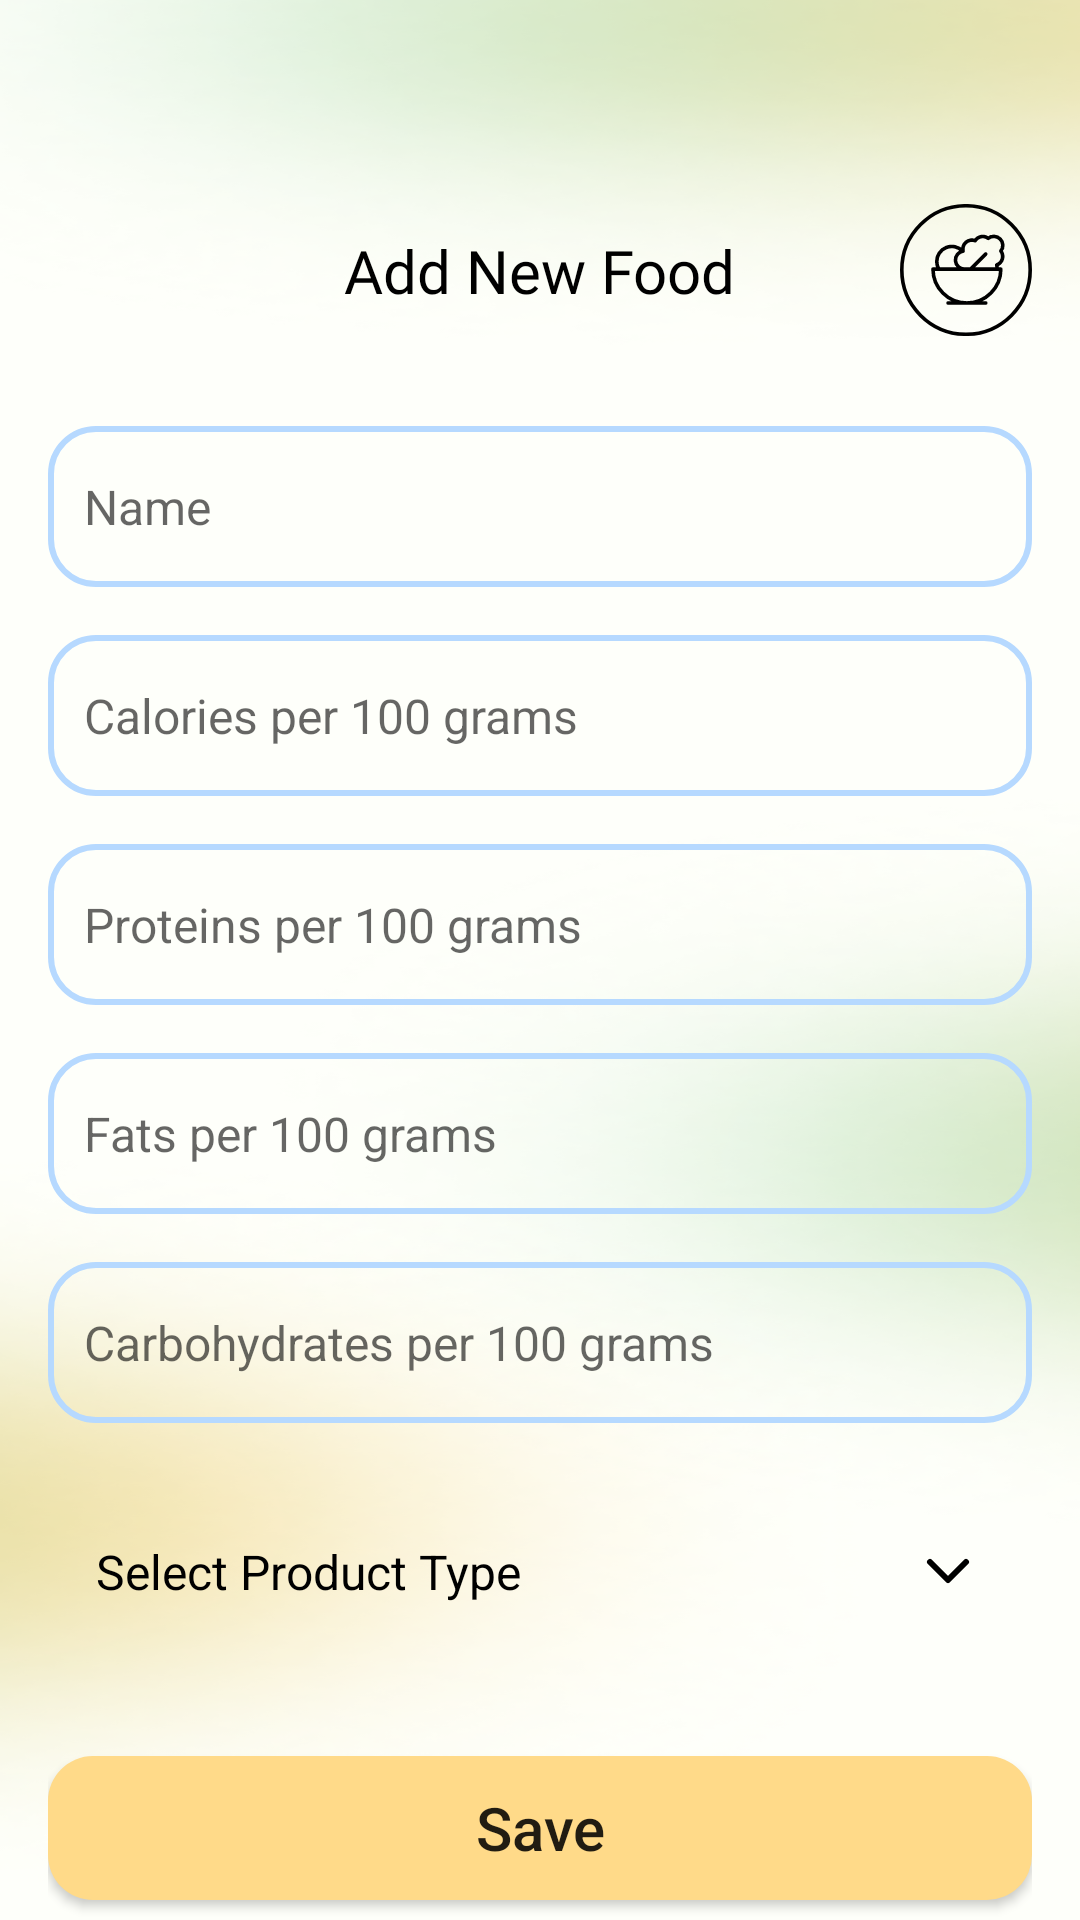

Named icons in this screenshot (1080*1920) and their centers, (x,y):
arrow down: (948,1571)
